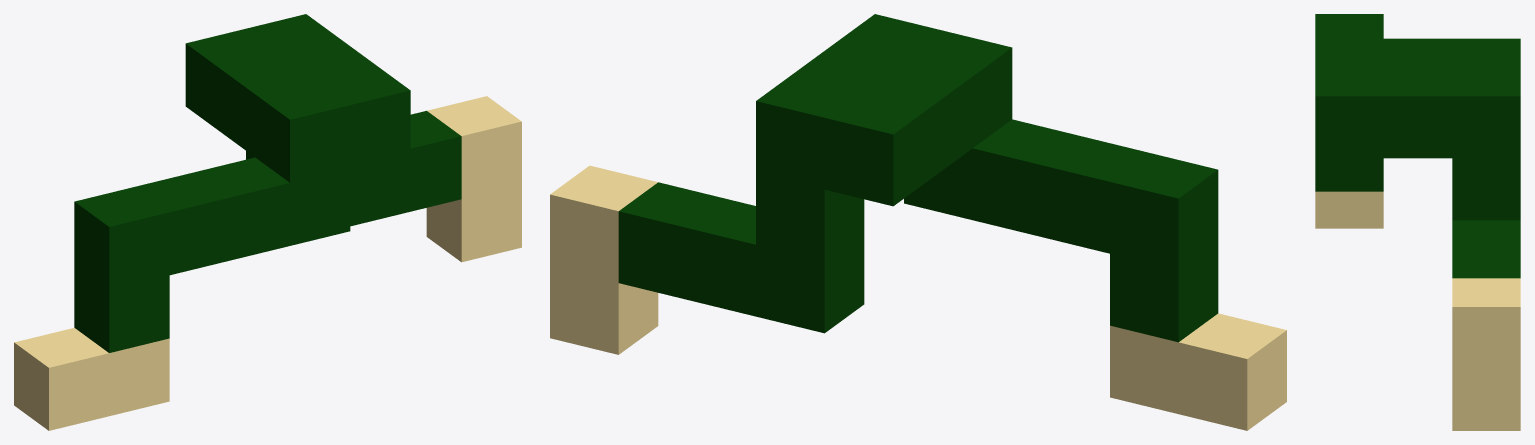
File: thymea-5-torso_walk.obj
The picture shows the model from 3 angles, left to right: view 1: azimuth 30°, elevation 25°; view 2: azimuth 150°, elevation 25°; view 3: azimuth 270°, elevation 25°; orthographic projection. The views are drawn at different scales.
Visible parts, largest first — view 1: torso_walk; view 2: torso_walk; view 3: torso_walk.
Part boxes in pixels (<box>): torso_walk: <box>14,14,521,430</box>; torso_walk: <box>550,14,1286,430</box>; torso_walk: <box>1315,14,1520,430</box>.
Bounding box in the file's own units: 0.9 × 0.4 × 0.3.
Materials: 1 (1 with a texture image).
